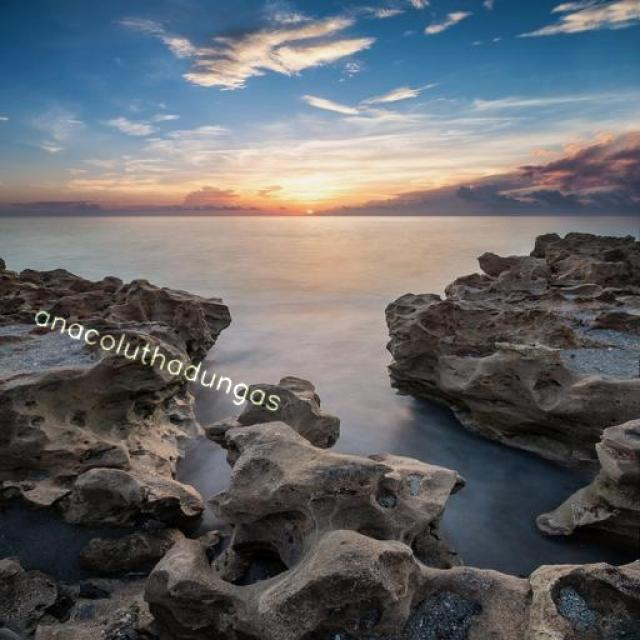watermark: (24, 298, 299, 416)
